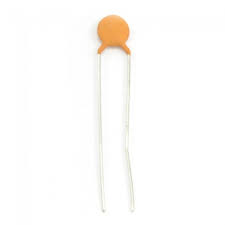ceramic capacitor: (58, 6, 165, 87)
